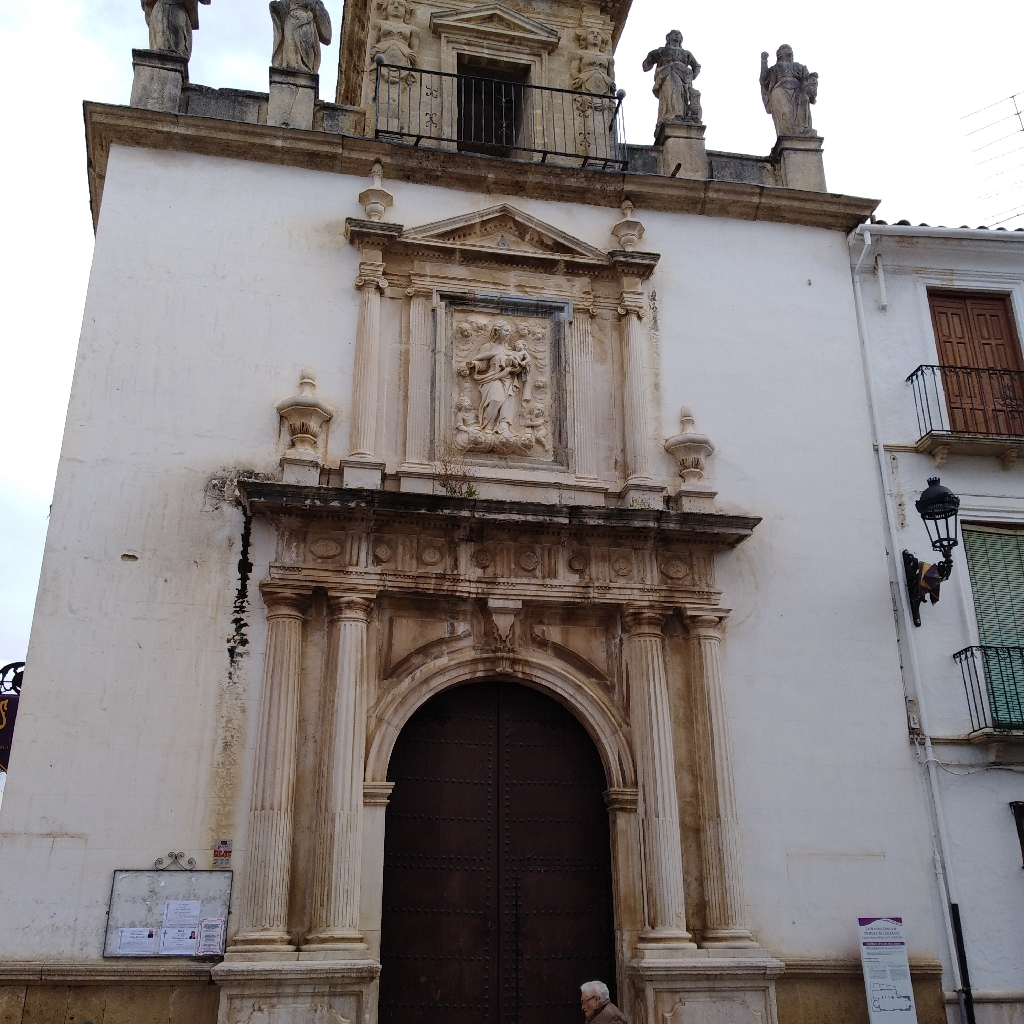arco-medio-punto: (373, 658, 629, 826)
fronton: (383, 198, 613, 269), (431, 3, 560, 50)
vano-adintelado: (446, 45, 539, 162)
